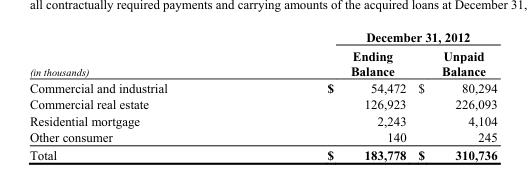table: (28, 29, 496, 162)
table column: (28, 29, 246, 162), (246, 29, 411, 162), (411, 29, 496, 162)
table column header: (28, 29, 496, 79)
table row: (28, 46, 496, 79), (28, 29, 496, 46), (28, 79, 496, 96), (28, 128, 496, 145), (28, 145, 496, 162), (28, 96, 496, 112), (28, 112, 496, 128)
table spanning cell: (28, 29, 246, 79), (246, 29, 496, 46)
